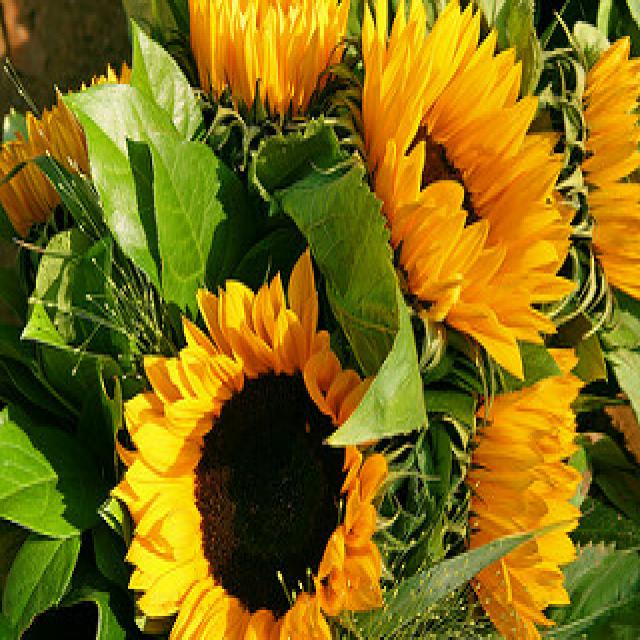sunflower: (117, 255, 403, 640), (351, 0, 573, 379), (444, 369, 598, 640)
